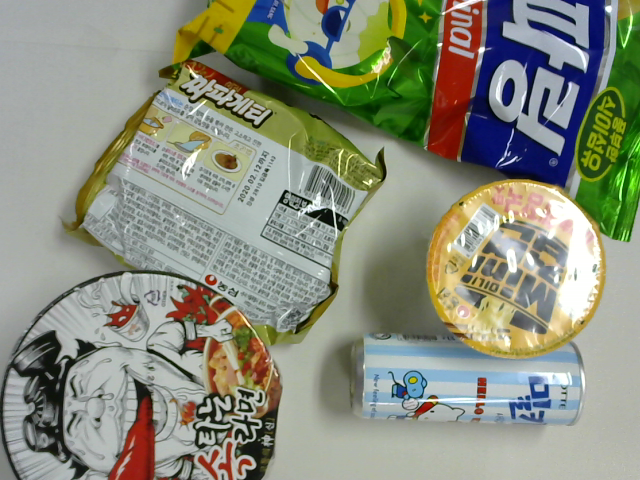HeJangsock: (14, 267, 297, 480)
Milkies_250ml: (328, 321, 613, 443)
Olive_Chapaghetti: (112, 64, 362, 313)
Oninon_Ring: (182, 1, 640, 219)
Udongmini: (425, 176, 592, 348)
